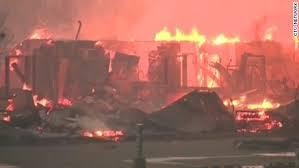fire: (151, 22, 243, 46)
